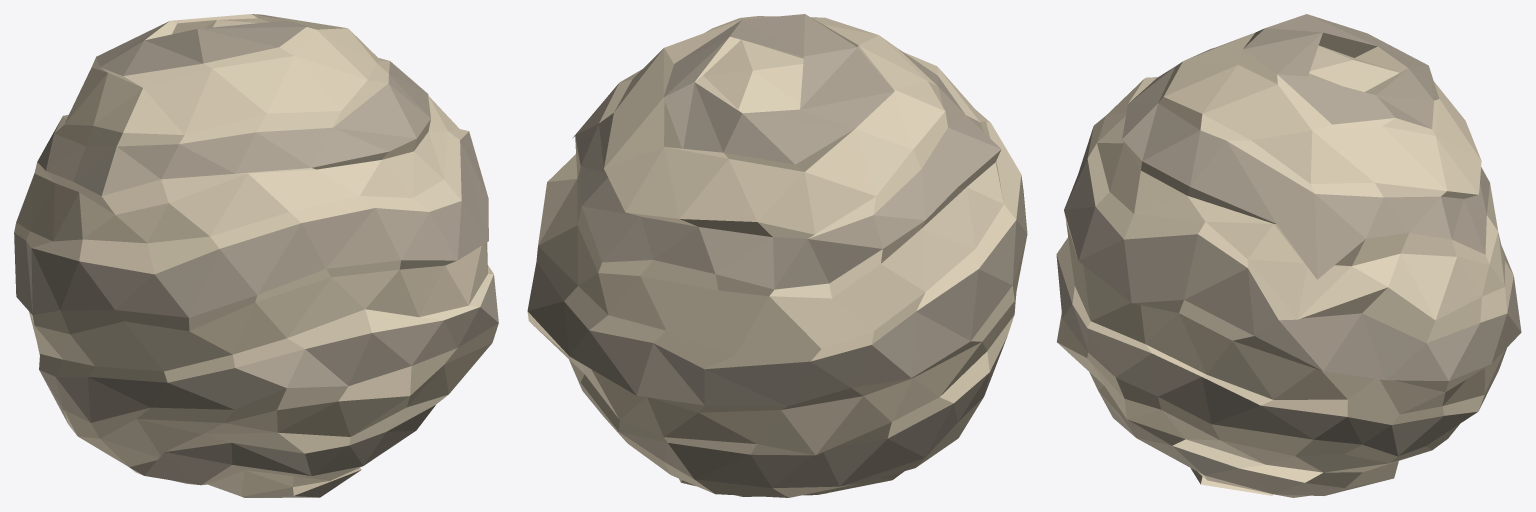
The model's file is Jupiter.fbx.
The picture shows the model from 3 angles, left to right: view 1: azimuth 30°, elevation 25°; view 2: azimuth 150°, elevation 25°; view 3: azimuth 270°, elevation 25°; orthographic projection. The views are drawn at different scales.
Parts seen in each view (by area): view 1: Jupiter; view 2: Jupiter; view 3: Jupiter.
Boxes of the visible parts, left/top/right/bottom form: Jupiter: left=14, top=14, right=498, bottom=497; Jupiter: left=527, top=14, right=1027, bottom=497; Jupiter: left=1056, top=14, right=1521, bottom=497.
Size of the model in its own units: 390 by 396 by 398.
